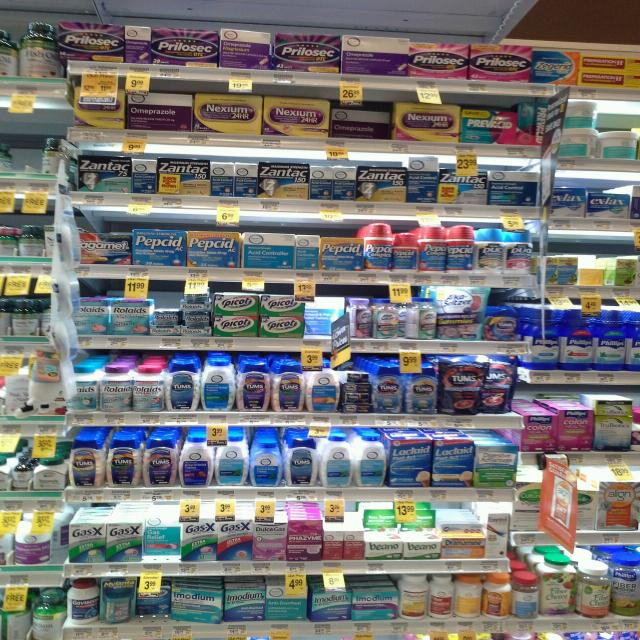empty: (10, 125, 43, 173)
